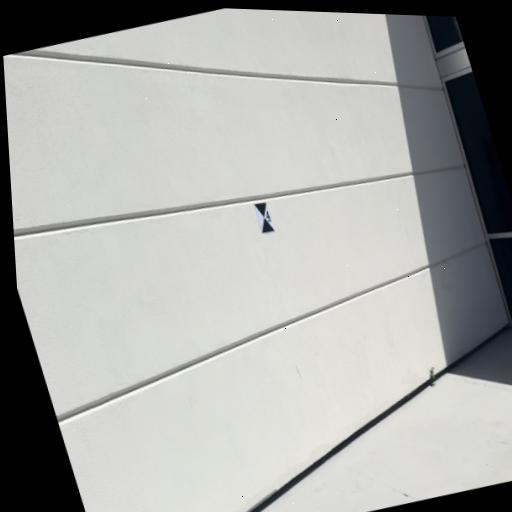target4: (253, 199, 275, 234)
